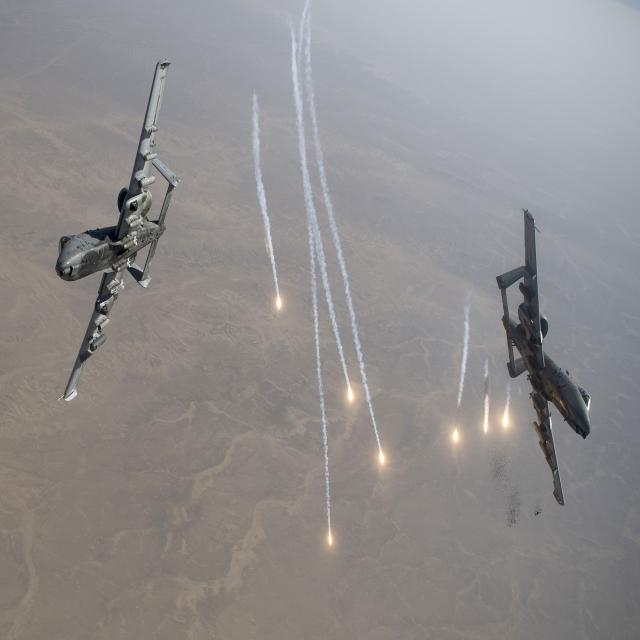MIL_Plane: (54, 59, 182, 402), (495, 208, 591, 506)
